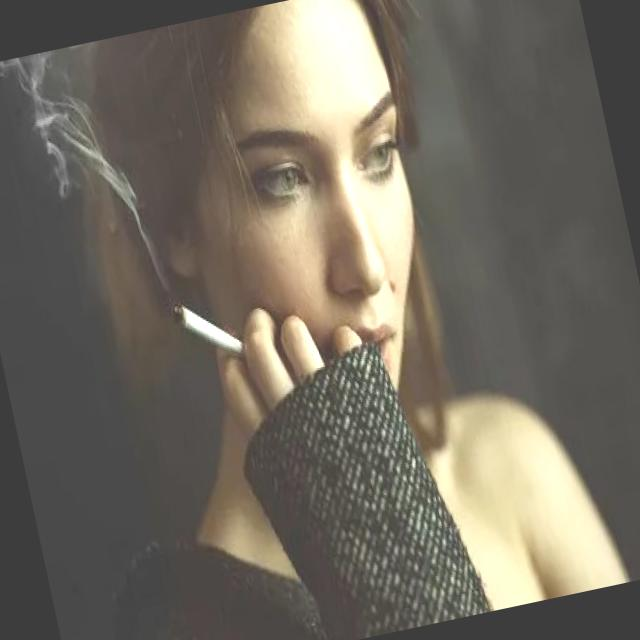smoke: (167, 284, 252, 373)
